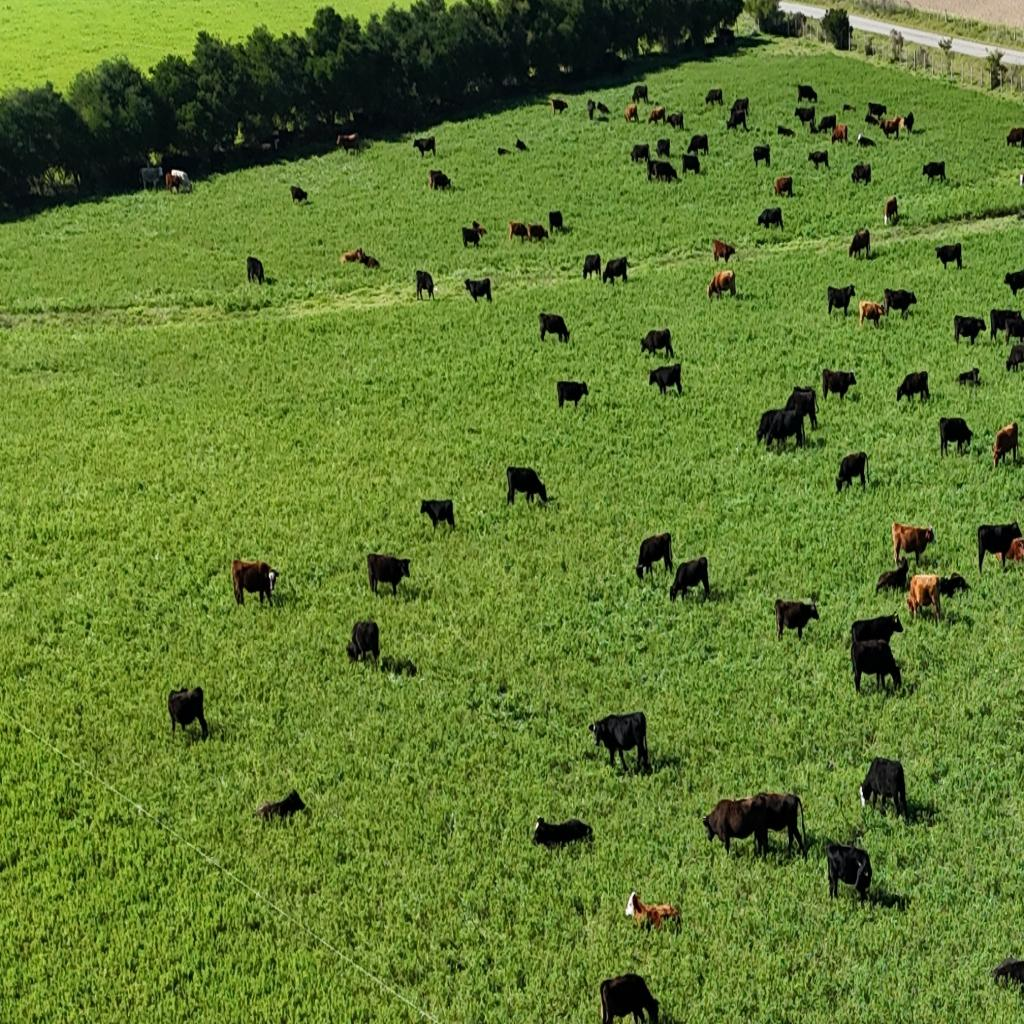cow: (748, 791, 810, 860), (703, 797, 768, 859), (588, 712, 647, 773), (825, 839, 872, 907), (859, 756, 908, 820), (850, 638, 902, 694), (600, 973, 658, 1023), (231, 559, 278, 609), (168, 684, 208, 741), (757, 407, 806, 452), (977, 522, 1019, 574), (627, 892, 681, 932), (533, 815, 592, 851), (850, 612, 904, 650), (367, 552, 411, 597), (669, 557, 712, 603), (775, 597, 820, 640), (253, 788, 306, 824), (892, 522, 933, 568), (635, 533, 672, 582), (906, 574, 942, 622), (346, 619, 380, 666), (785, 385, 820, 430), (507, 466, 545, 506), (939, 416, 973, 458), (835, 452, 869, 492), (992, 423, 1020, 470), (875, 560, 910, 597), (648, 363, 682, 399), (822, 368, 856, 404), (420, 498, 454, 533), (896, 371, 930, 406), (639, 328, 675, 360), (990, 306, 1022, 342), (992, 956, 1024, 991), (883, 287, 917, 319), (538, 311, 570, 344), (954, 314, 986, 346), (556, 379, 588, 409), (828, 284, 856, 317), (858, 298, 887, 329), (707, 270, 735, 302), (380, 654, 417, 678), (602, 256, 630, 285), (935, 242, 963, 270), (726, 99, 750, 131), (938, 574, 969, 598), (848, 228, 871, 260), (464, 278, 492, 304), (648, 160, 678, 184), (140, 164, 164, 192), (758, 206, 784, 231), (1002, 268, 1024, 297), (712, 238, 736, 263), (167, 169, 191, 194), (462, 224, 486, 248), (922, 160, 946, 184), (336, 132, 360, 156), (1005, 344, 1024, 374), (428, 169, 452, 192), (416, 270, 434, 300), (412, 136, 436, 158), (246, 256, 264, 285), (956, 368, 982, 388), (685, 134, 708, 156), (794, 106, 816, 129), (582, 254, 601, 280), (807, 150, 829, 172), (864, 101, 886, 123), (851, 163, 871, 185), (796, 84, 818, 104), (509, 221, 529, 243), (681, 154, 701, 176), (879, 118, 899, 140), (752, 144, 770, 168), (630, 144, 650, 165), (884, 196, 898, 226), (358, 250, 380, 269), (774, 175, 793, 197), (830, 123, 848, 146), (816, 114, 836, 134), (1005, 128, 1024, 149), (527, 223, 547, 242), (648, 106, 666, 126), (340, 248, 362, 264), (549, 210, 564, 233), (704, 88, 723, 106), (666, 112, 685, 130), (631, 84, 648, 104), (290, 185, 307, 204), (549, 98, 568, 115), (857, 132, 877, 148), (656, 138, 671, 159), (624, 104, 639, 124), (902, 111, 914, 136), (732, 96, 749, 112), (472, 220, 486, 236), (777, 125, 795, 137), (596, 101, 610, 116), (260, 141, 274, 156), (514, 138, 528, 152), (587, 98, 595, 120), (558, 63, 572, 74), (497, 147, 511, 156), (843, 103, 855, 113)
